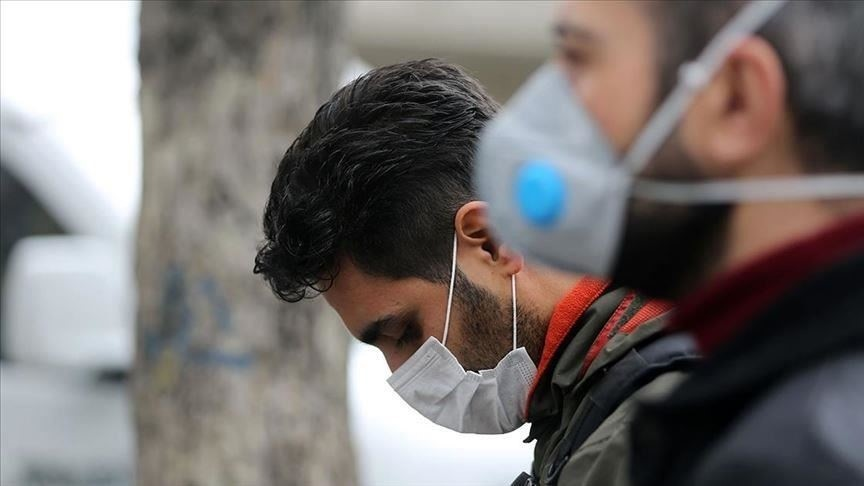face_with_mask: (283, 53, 589, 438), (467, 0, 864, 293)
